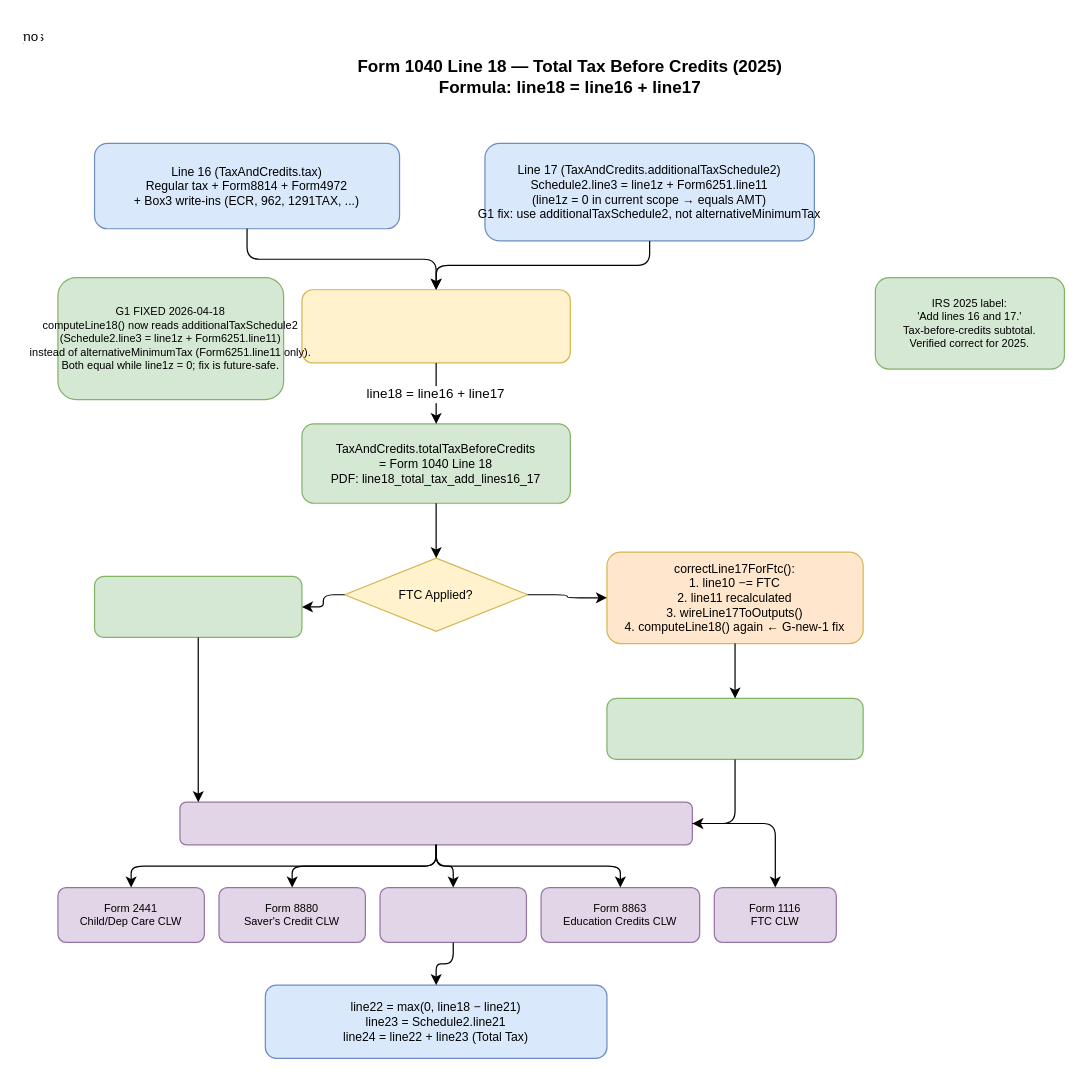
Image size: 1086x1080. Some labels were removed from this diagram. Here are the shapes that lost their labels. From the top down, the centre of each, then its label:
the point at 435,326: computeLine18() line18 = line16 + line17 (null treated as zero)
the point at 197,606: totalTaxBeforeCredits (final, no FTC correction)
the point at 734,728: totalTaxBeforeCredits (refreshed after FTC)
the point at 435,823: Downstream CLWs read totalTaxBeforeCredits
the point at 452,914: Schedule 8812 CTC / ODC / ACTC
